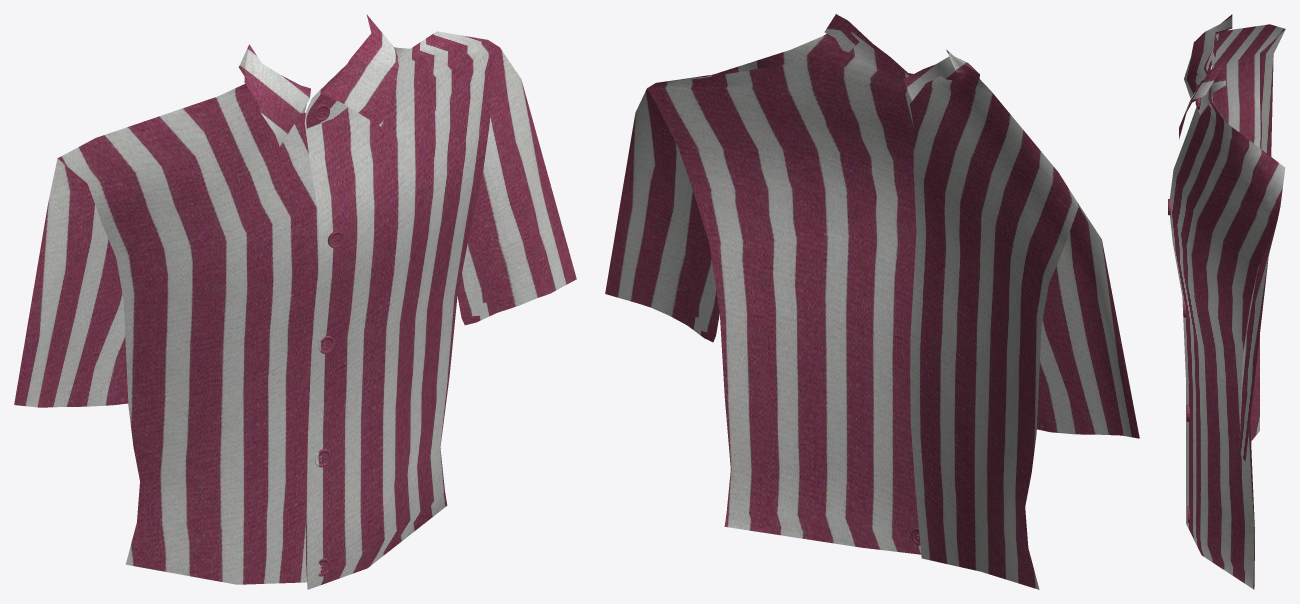
The model's file is ManShirtShortSleevesRedtextre.glb.
3 renders of one model, left to right at view 1: azimuth 30°, elevation 25°; view 2: azimuth 150°, elevation 25°; view 3: azimuth 270°, elevation 25°, orthographic. The views are drawn at different scales.
Visible parts, largest first — view 1: Plane; view 2: Plane; view 3: Plane.
Part boxes in pixels (x1,y1,x2,y2): Plane: (14, 14, 576, 589); Plane: (605, 14, 1139, 589); Plane: (1168, 14, 1285, 589).
Size of the model in its own units: 2.54 by 2.39 by 0.5108.
Materials: 1 (1 with a texture image).
